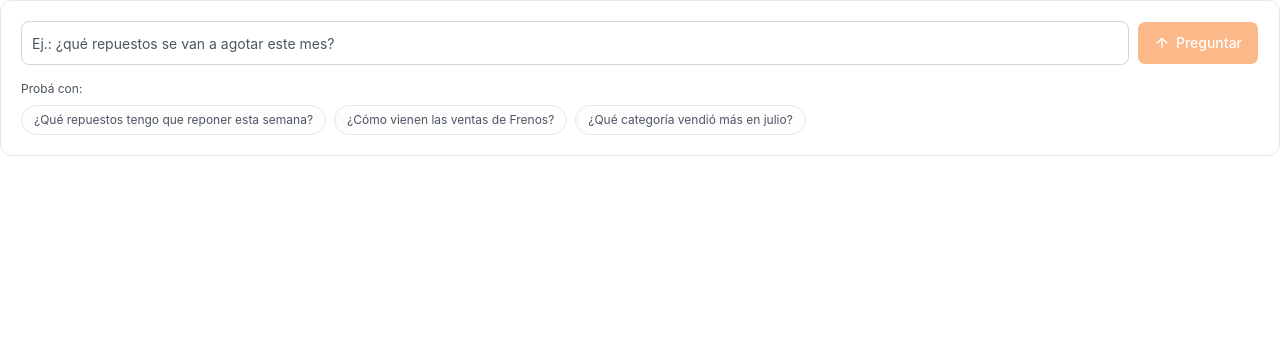
preguntarle al dashboard (HU 6.4) › asks what the seller types
The width and height of the screenshot is (1280, 338).
Check: the button "Preguntar" is disabled, box 1137,21 -> 1259,65
In the field named "Tu pregunta": coordinates (575, 43) 21,21 -> 1129,65, type "¿Qué opinan los clientes?"
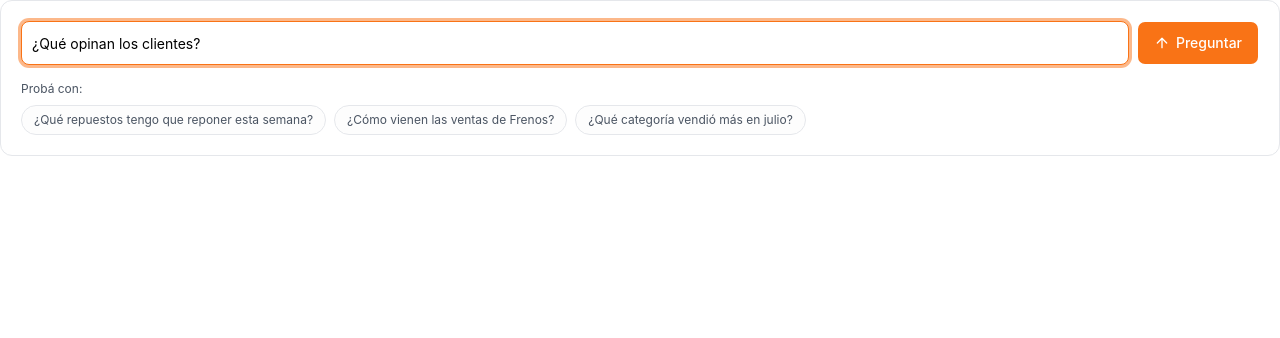
Click the button "Preguntar": coordinates (1198, 43) 1137,21 -> 1259,65
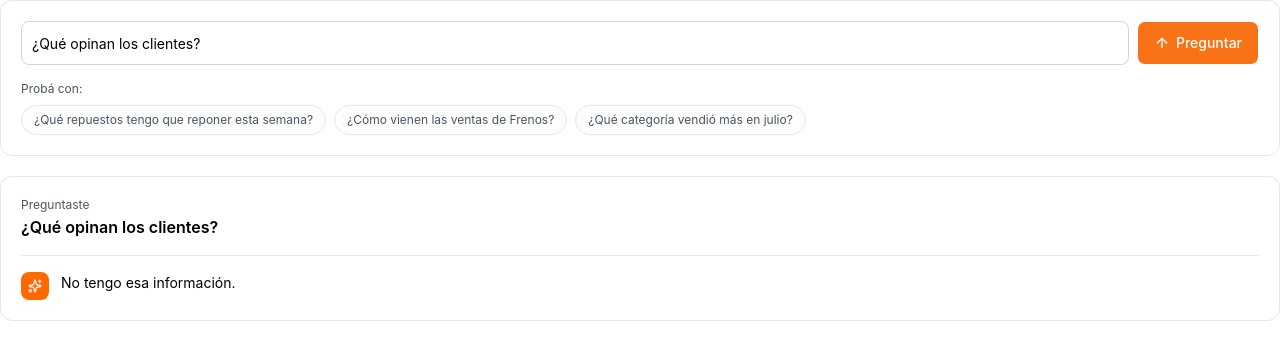
Check: the text "No tengo esa información." is shown, box 61,274 -> 236,291
